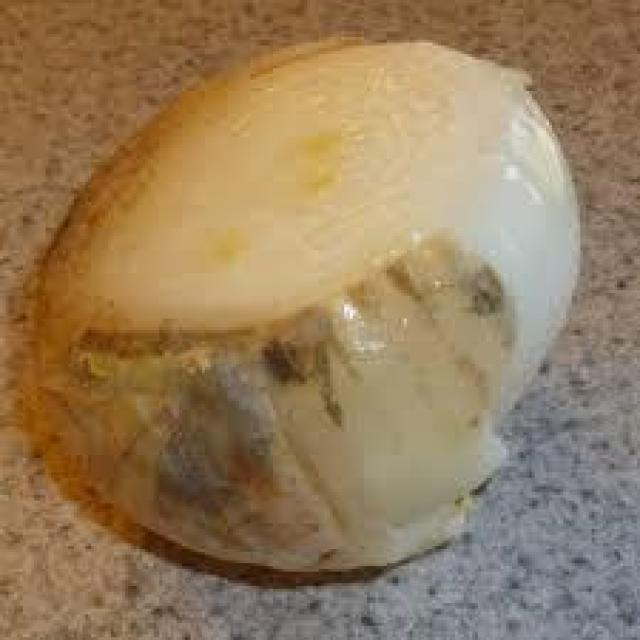Onion: (20, 31, 574, 575)
